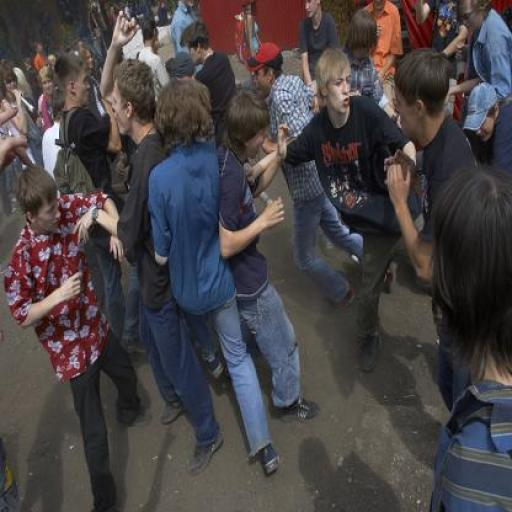Fighting: (2, 2, 512, 512)
